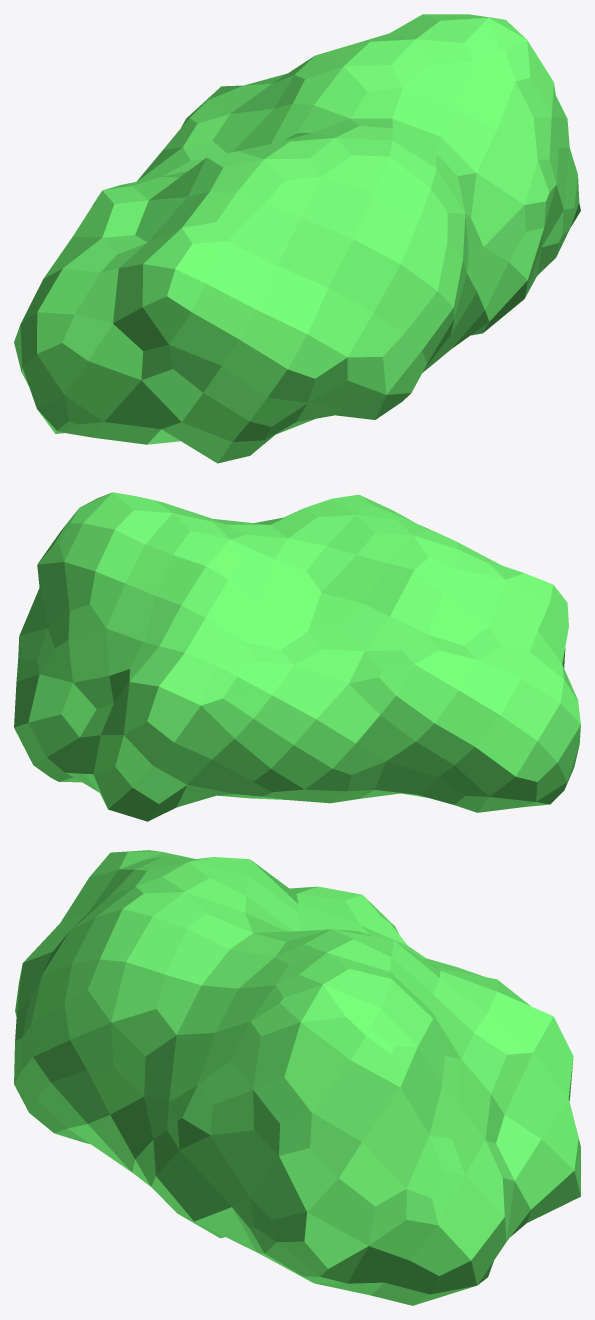
File: Bush2.fbx
3 views of the same model, one above another, from view 1: azimuth 30°, elevation 25°; view 2: azimuth 150°, elevation 25°; view 3: azimuth 270°, elevation 25° (orthographic). The views are drawn at different scales.
Visible parts, largest first — view 1: Bush2; view 2: Bush2; view 3: Bush2.
Boxes of the visible parts, x1=… form: Bush2: x1=14, y1=14, x2=580, y2=463; Bush2: x1=14, y1=492, x2=580, y2=821; Bush2: x1=14, y1=850, x2=580, y2=1305.
Bounding box in the file's own units: 5.67 × 2.72 × 4.36.
